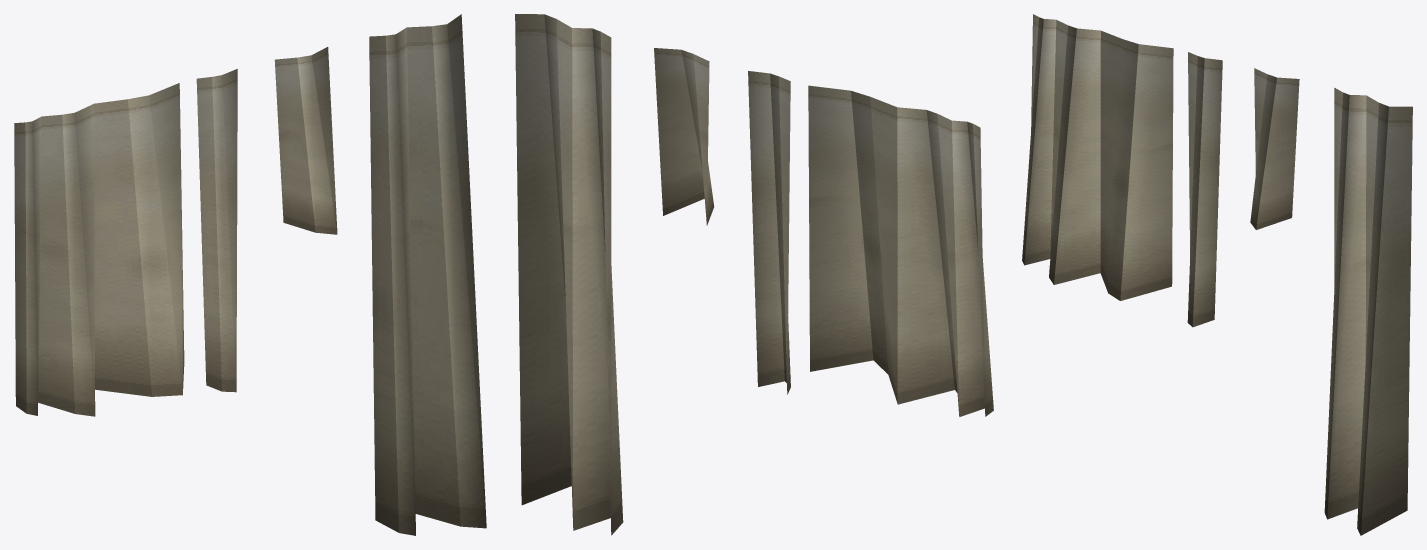
File: prop_curtain-torn-0.glb
The picture shows the model from 3 angles, left to right: view 1: azimuth 30°, elevation 25°; view 2: azimuth 150°, elevation 25°; view 3: azimuth 330°, elevation 25°; orthographic projection. The views are drawn at different scales.
Visible parts, largest first — view 1: prop_curtain-torn-0; view 2: prop_curtain-torn-0; view 3: prop_curtain-torn-0.
Part boxes in pixels (x1,y1,x2,y2): prop_curtain-torn-0: [14, 14, 486, 535]; prop_curtain-torn-0: [515, 14, 993, 535]; prop_curtain-torn-0: [1022, 14, 1412, 535].
Size of the model in its own units: 1.73 by 1.79 by 0.2894.
1 material, 1 textured.
